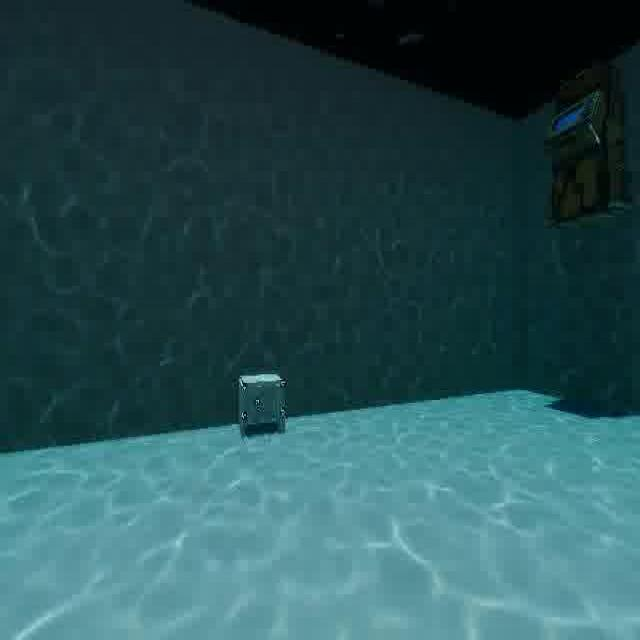Control Panel: (538, 51, 631, 234)
Docking Station: (234, 363, 292, 449)
